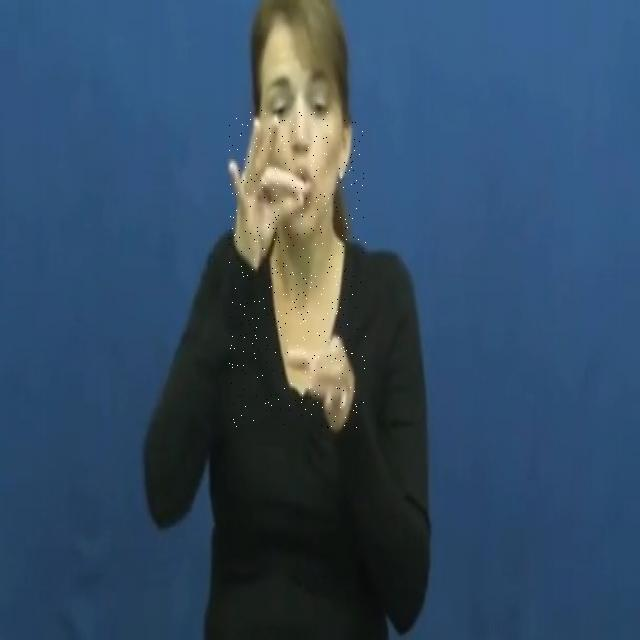straw: (228, 110, 366, 428)
